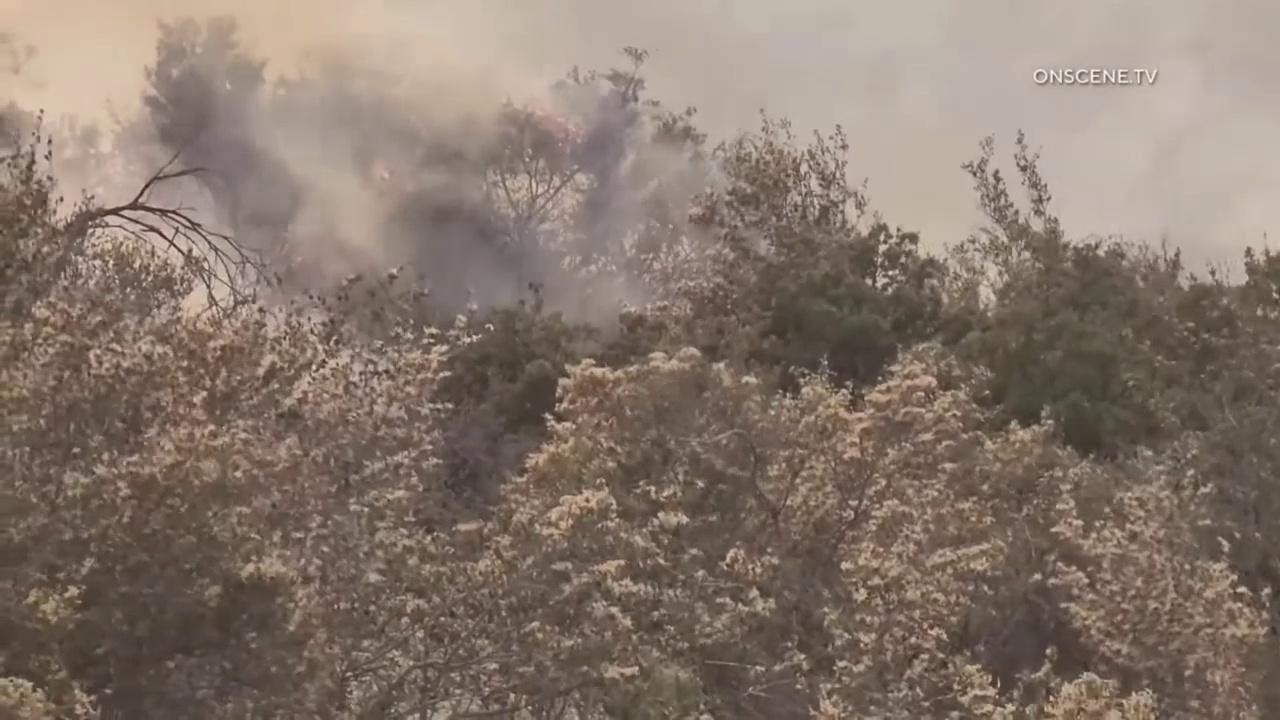fire: (523, 105, 589, 146)
smoke: (0, 0, 1280, 356)
